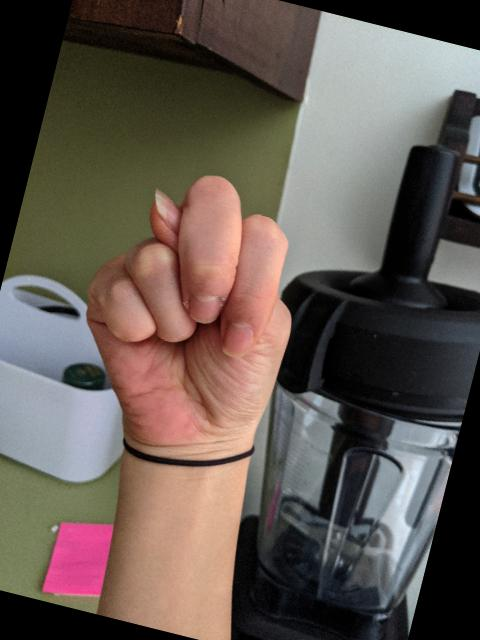N: (52, 146, 329, 469)
